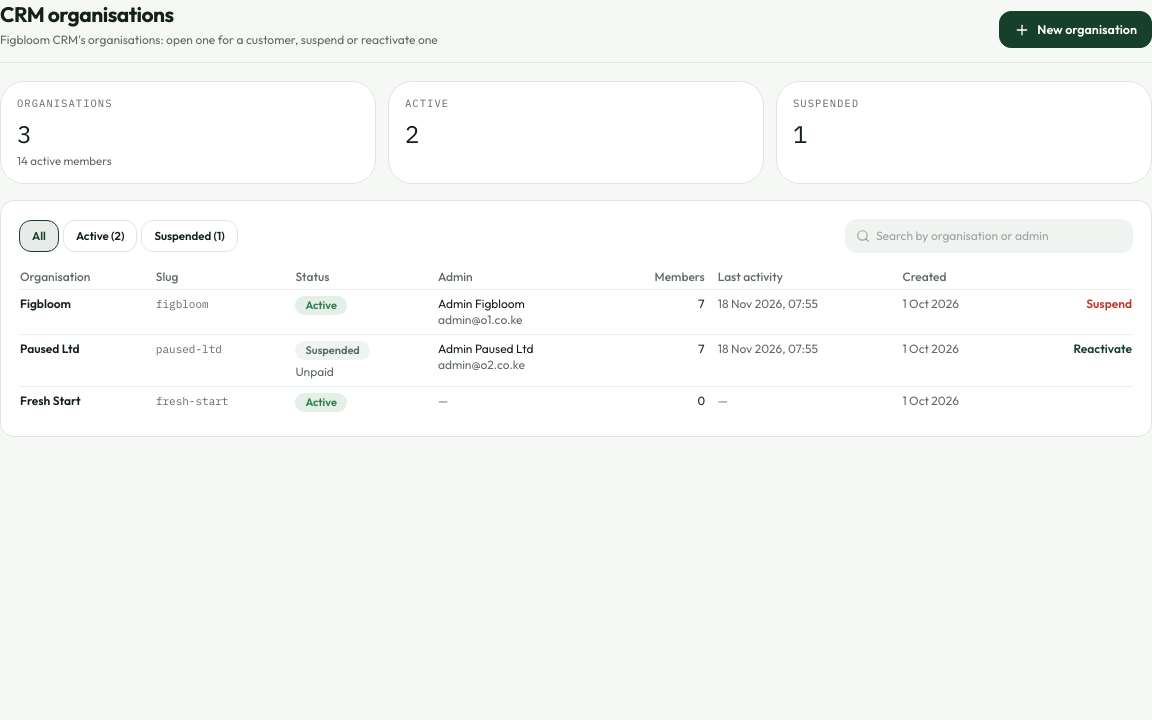
it: the CRM organisations page › before CRM has registered it: Suspend is off, and says why
Click the button "Fresh Start": [50, 401] box [20,393,81,409]
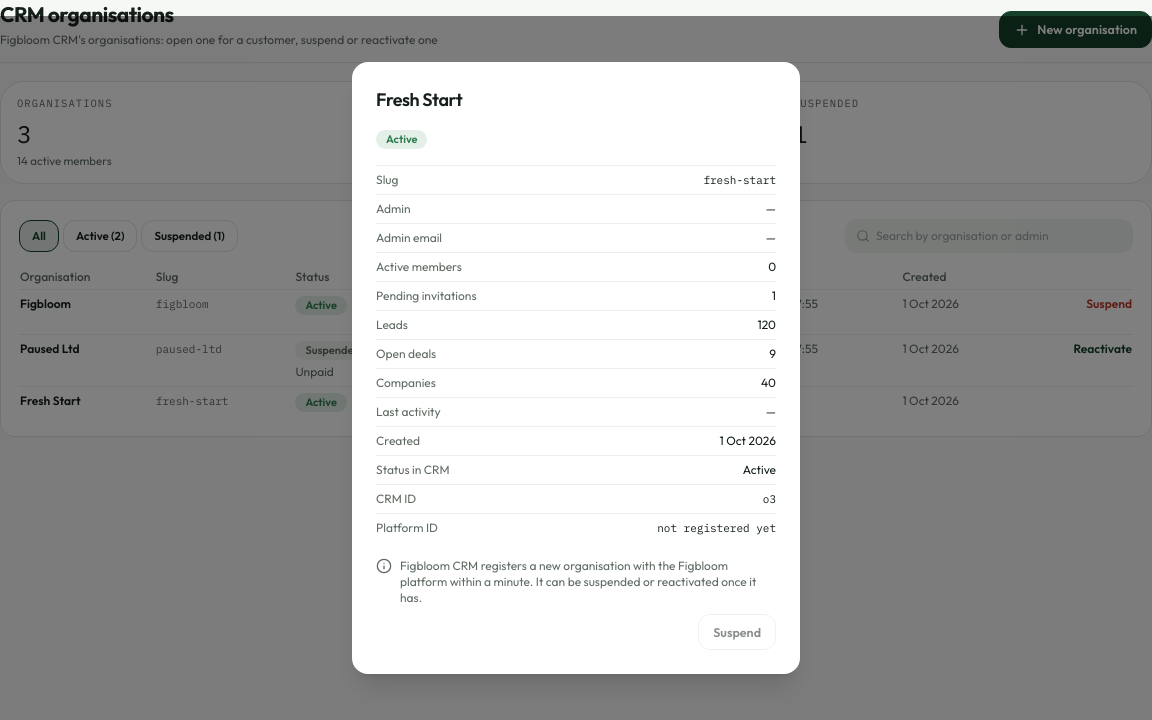
Expected: the text "not registered yet" is shown, [657,521,776,535]
Expected: the text "registers a new organisation with the Figbloom platform within a minute" is shown, [400,558,756,605]
Expected: the button "Suspend" is disabled, [698,614,776,650]
